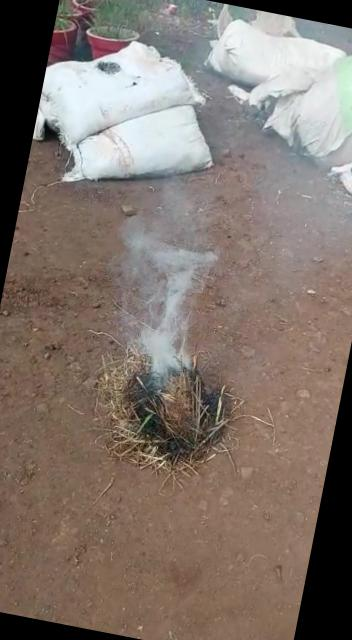Smoke: (86, 169, 230, 397)
